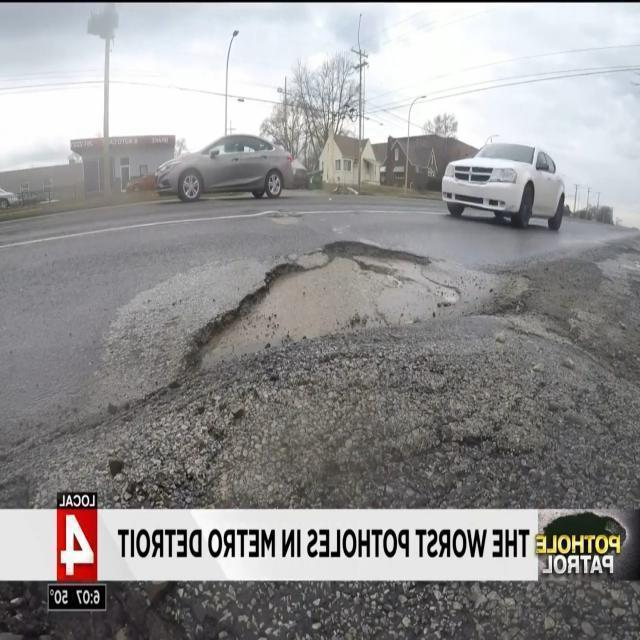Pothole: (196, 242, 509, 381)
